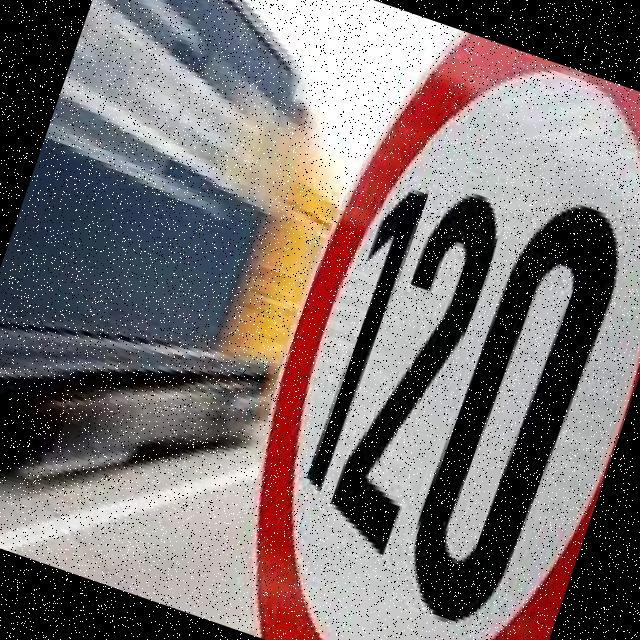speed_limit_120: (186, 7, 640, 640)
